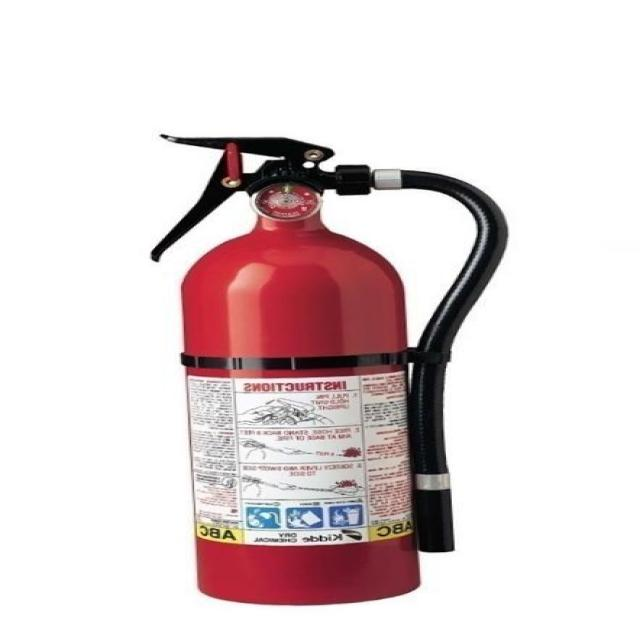fire_extinguisher: (135, 127, 517, 610)
